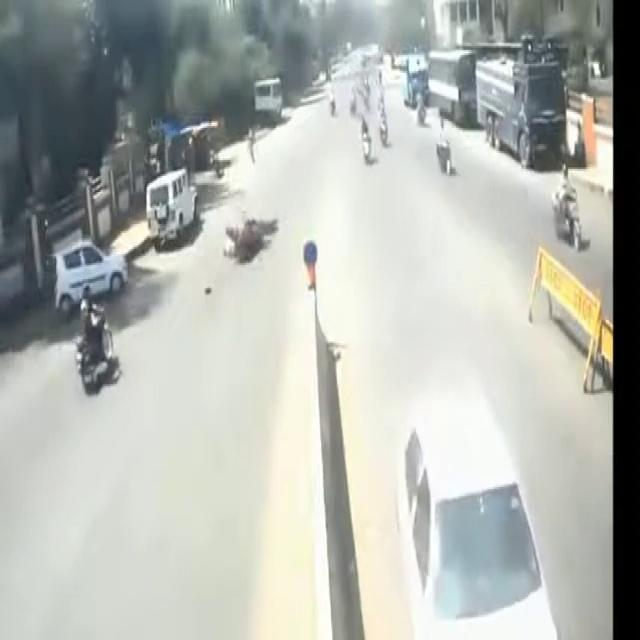accident: (210, 184, 293, 296)
